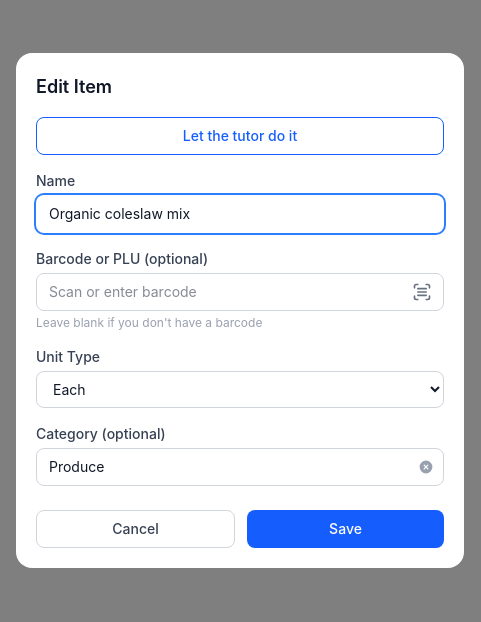
Test case: FixUnknownItemModal › shows an inline error and stays open when the barcode is already used by another item
This screenshot has width=481, height=622.
In the field with placeholder "Scan or enter barcode": (240, 292) [36,272,444,310], type "00558242"
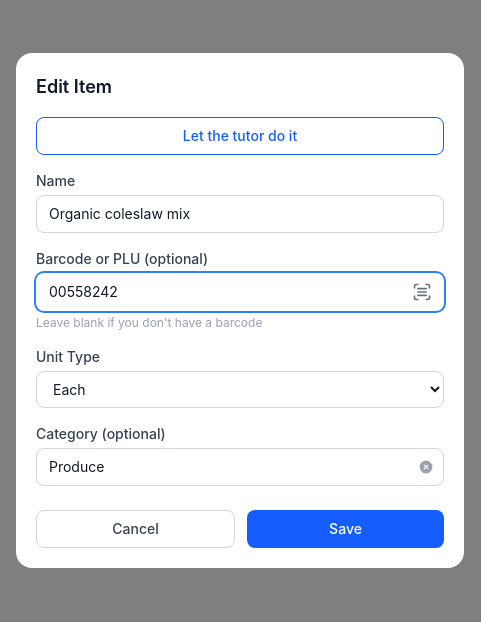
Click the button "Save": (346, 528) [247,510,444,548]
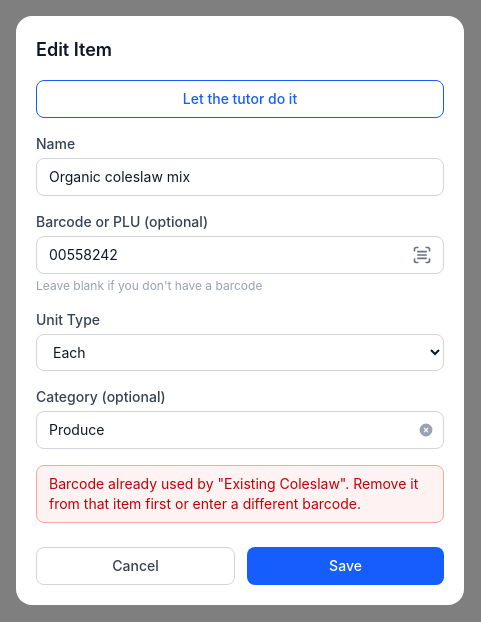
expect the button "Save" is enabled: met, box [247,546,444,584]
expect the text "already used by \"Existing Coleslaw\"" is shown: met, box [49,474,418,512]
